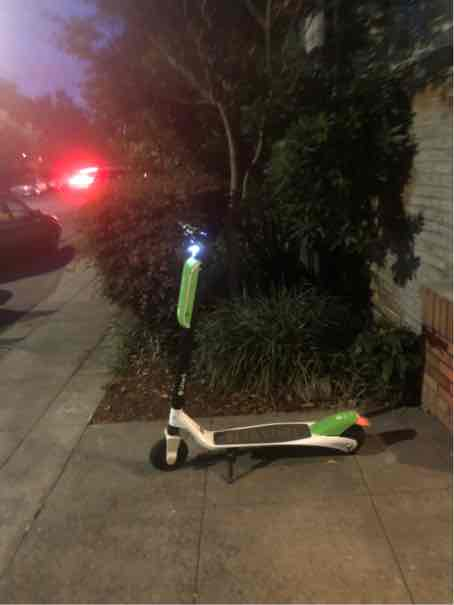scooter: (143, 204, 381, 470)
